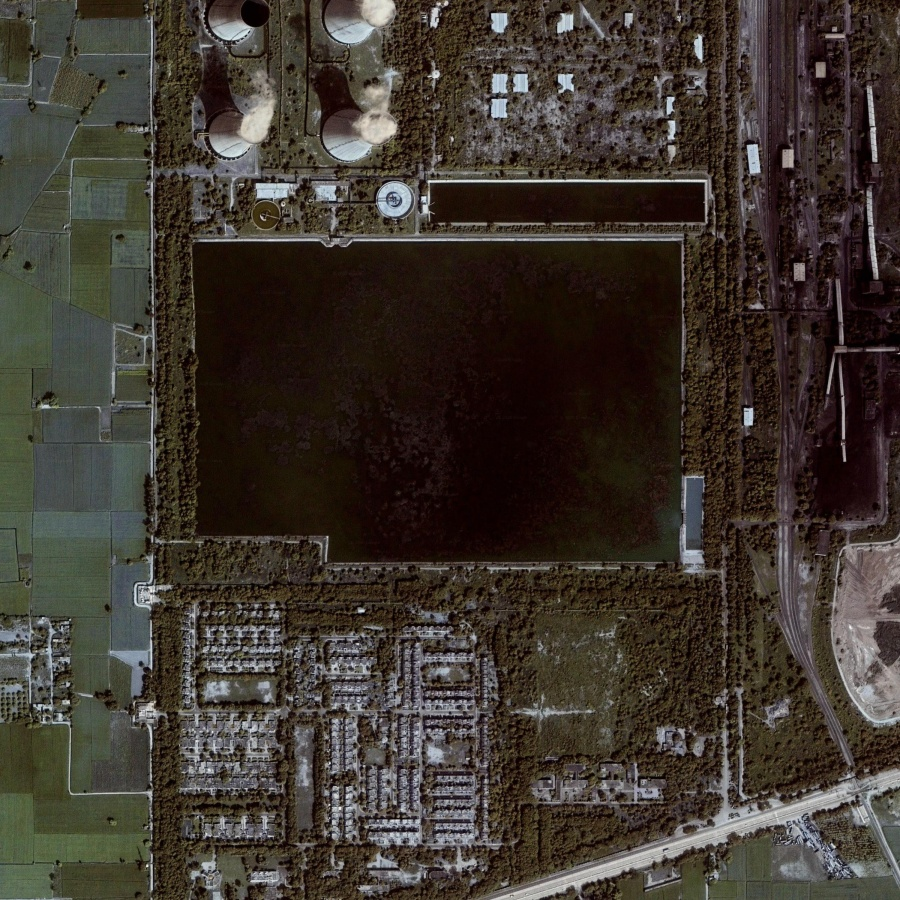PowerPlant: (168, 219, 721, 591)
